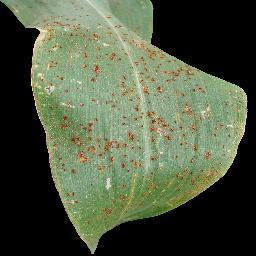Corn_Common_Rust: (18, 26, 254, 256), (0, 0, 157, 26)
